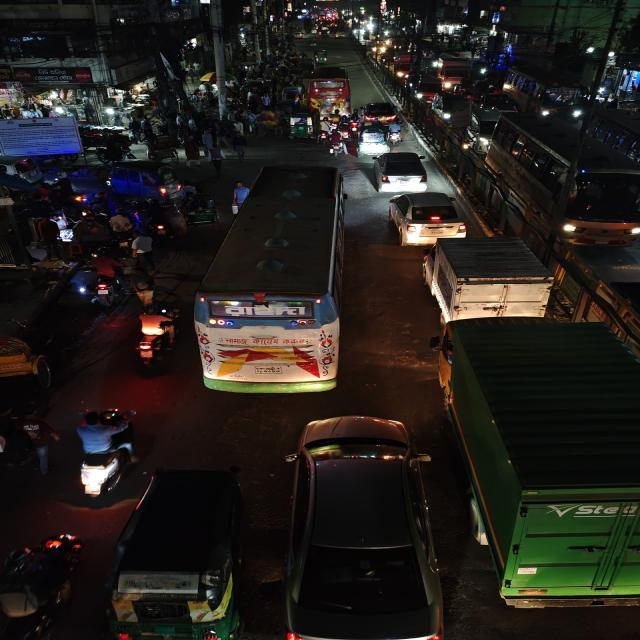bus: (198, 160, 351, 394), (494, 114, 640, 246), (504, 64, 584, 120), (584, 105, 640, 177), (300, 64, 353, 110)
car: (286, 411, 439, 639), (384, 190, 467, 244), (370, 150, 430, 192), (360, 100, 400, 124), (410, 79, 442, 103)
cng: (104, 469, 252, 640), (109, 160, 183, 199), (281, 106, 318, 138), (357, 124, 392, 154), (280, 86, 303, 104), (311, 49, 330, 64)
motorcycle: (0, 532, 83, 640), (67, 406, 138, 500), (128, 304, 179, 366), (85, 249, 130, 307), (142, 201, 174, 242), (327, 130, 347, 156), (318, 129, 332, 146)
pedestrian: (20, 413, 61, 479), (129, 230, 161, 270), (227, 180, 250, 216), (205, 143, 227, 175), (183, 138, 205, 164), (230, 132, 249, 160)
rickshaw: (0, 321, 68, 387), (176, 192, 222, 230), (256, 110, 279, 136)
truck: (440, 326, 640, 617), (418, 235, 554, 322), (436, 54, 478, 90)
